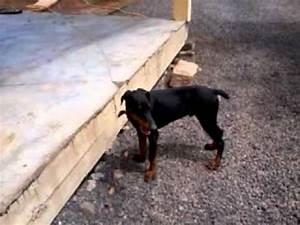dog: (117, 84, 230, 182)
